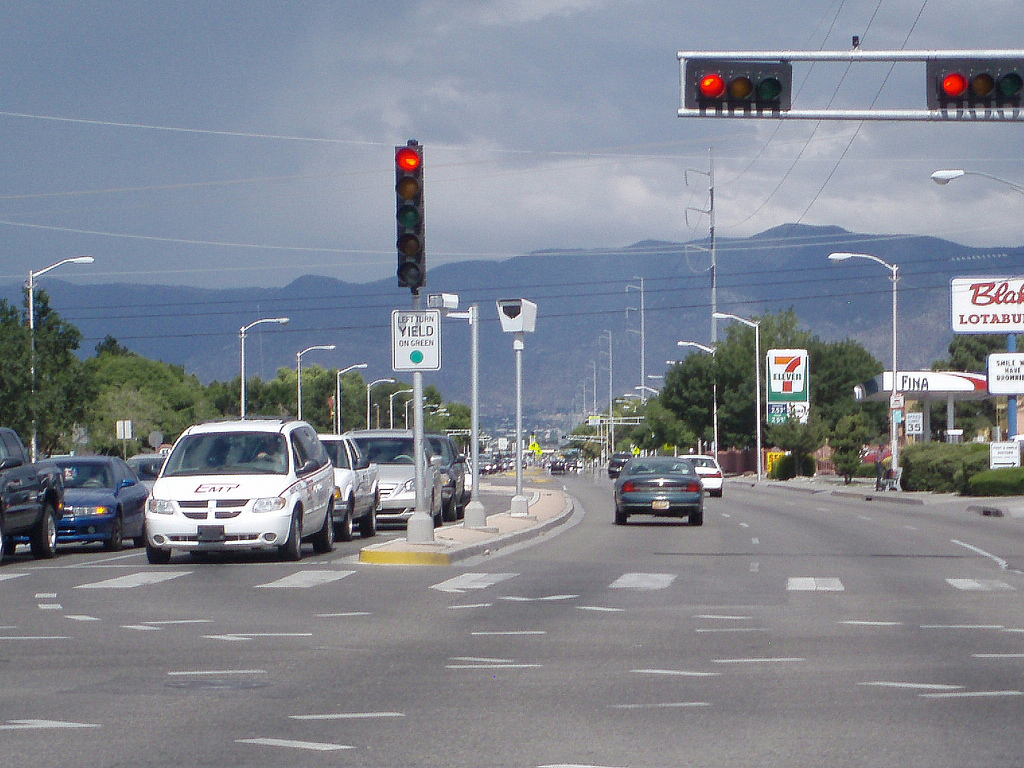traffic_light: (683, 57, 794, 113), (392, 138, 429, 295)
